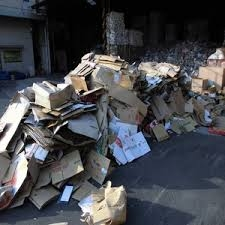paper: (1, 149, 47, 212), (74, 182, 136, 225), (1, 85, 34, 165), (105, 120, 157, 167), (41, 145, 91, 186), (27, 73, 78, 113), (81, 149, 122, 186), (68, 60, 100, 93)
